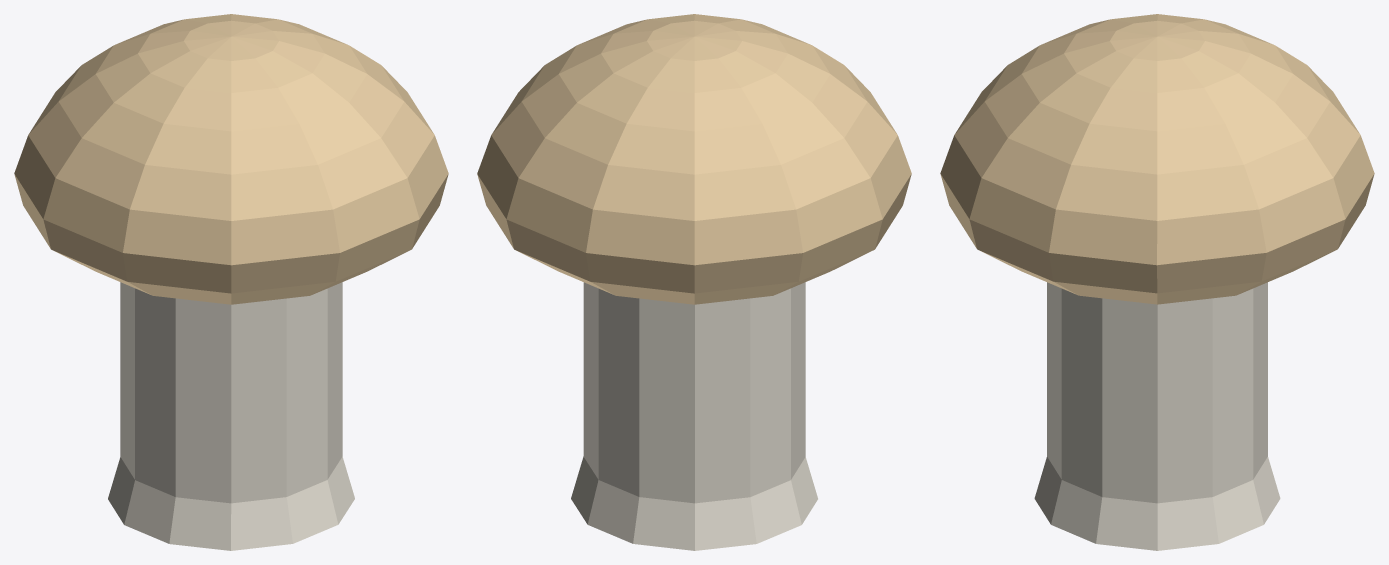
File: Champignon_little.fbx
3 renders of one model, left to right at view 1: azimuth 30°, elevation 25°; view 2: azimuth 150°, elevation 25°; view 3: azimuth 270°, elevation 25°, orthographic.
Visible parts, largest first — view 1: Sphere; view 2: Sphere; view 3: Sphere.
Boxes of the visible parts, left/top/right/bottom form: Sphere: left=14, top=14, right=448, bottom=550; Sphere: left=477, top=14, right=911, bottom=550; Sphere: left=940, top=14, right=1374, bottom=550.
Bounding box in the file's own units: 28.8 × 33.79 × 28.79.
